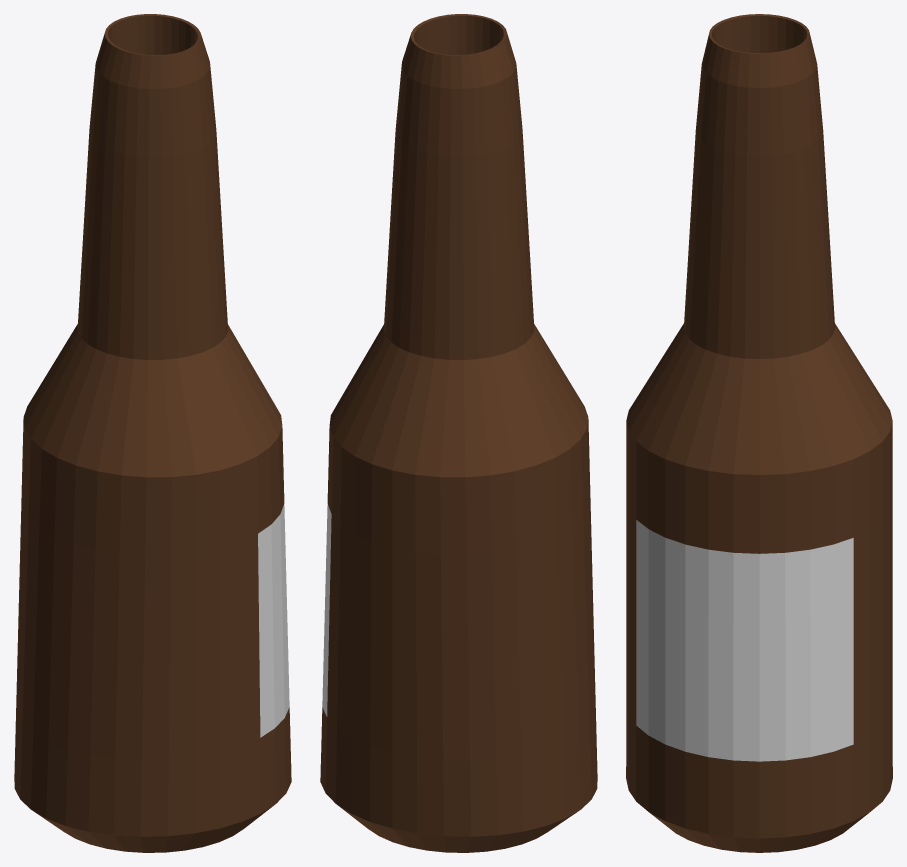
The model's file is Beer.fbx.
3 views of the same model, side by side, from view 1: azimuth 30°, elevation 25°; view 2: azimuth 150°, elevation 25°; view 3: azimuth 270°, elevation 25° (orthographic).
Parts seen in each view (by area): view 1: Cylinder; view 2: Cylinder; view 3: Cylinder.
Boxes of the visible parts, x1=… form: Cylinder: x1=14, y1=14, x2=291, y2=852; Cylinder: x1=320, y1=14, x2=597, y2=852; Cylinder: x1=626, y1=14, x2=892, y2=852.
Size of the model in its own units: 68.93 by 209 by 65.17.
